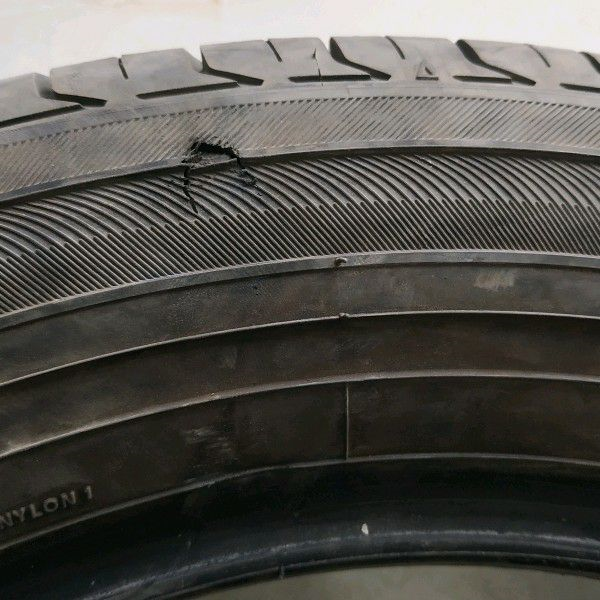cut: (177, 140, 258, 216)
